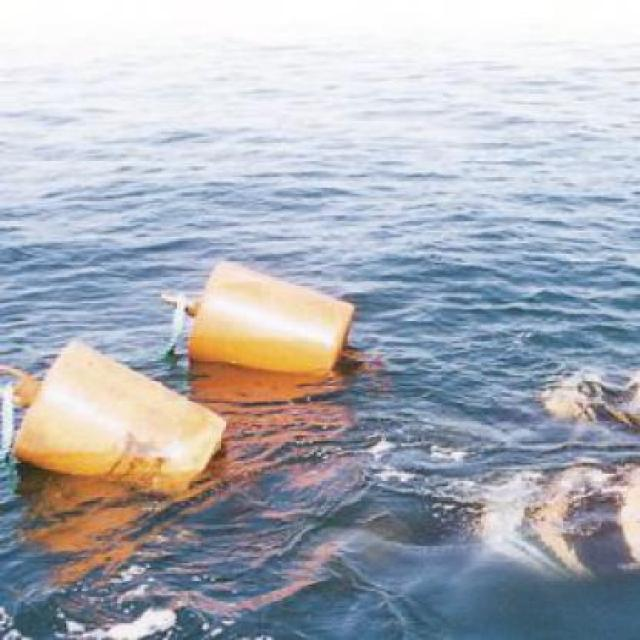a: (2, 336, 238, 520), (152, 256, 385, 385)
